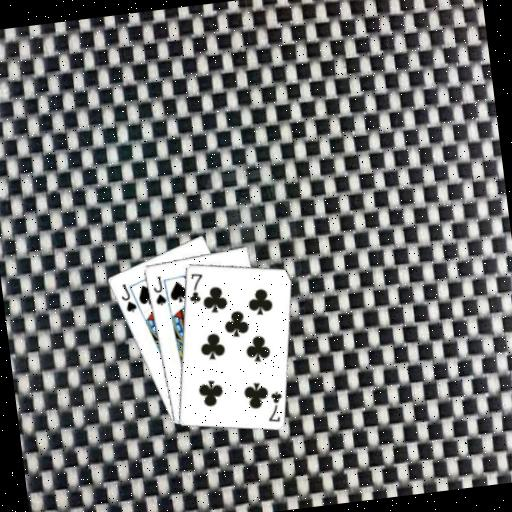7C: (262, 388, 286, 425), (184, 269, 208, 305)
JS: (116, 279, 138, 315), (149, 272, 168, 307)
